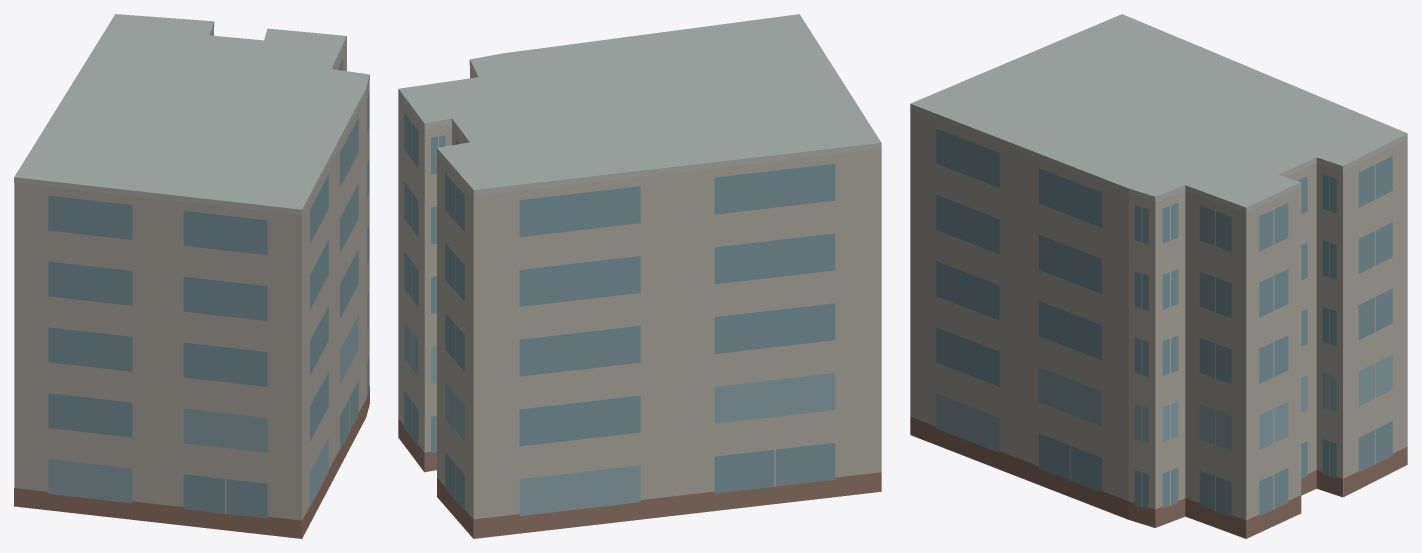
Rendered from survey-upis-32643776.glb.
The picture shows the model from 3 angles, left to right: view 1: azimuth 30°, elevation 25°; view 2: azimuth 150°, elevation 25°; view 3: azimuth 270°, elevation 25°; orthographic projection. The views are drawn at different scales.
Visible parts, largest first — view 1: survey-upis-32643776.tmp; view 2: survey-upis-32643776.tmp; view 3: survey-upis-32643776.tmp.
Boxes of the visible parts, bbox=[...] form: survey-upis-32643776.tmp: bbox=[14, 14, 369, 538]; survey-upis-32643776.tmp: bbox=[398, 14, 881, 538]; survey-upis-32643776.tmp: bbox=[910, 14, 1407, 538].
Size of the model in its own units: 17.93 by 14.3 by 19.47.
